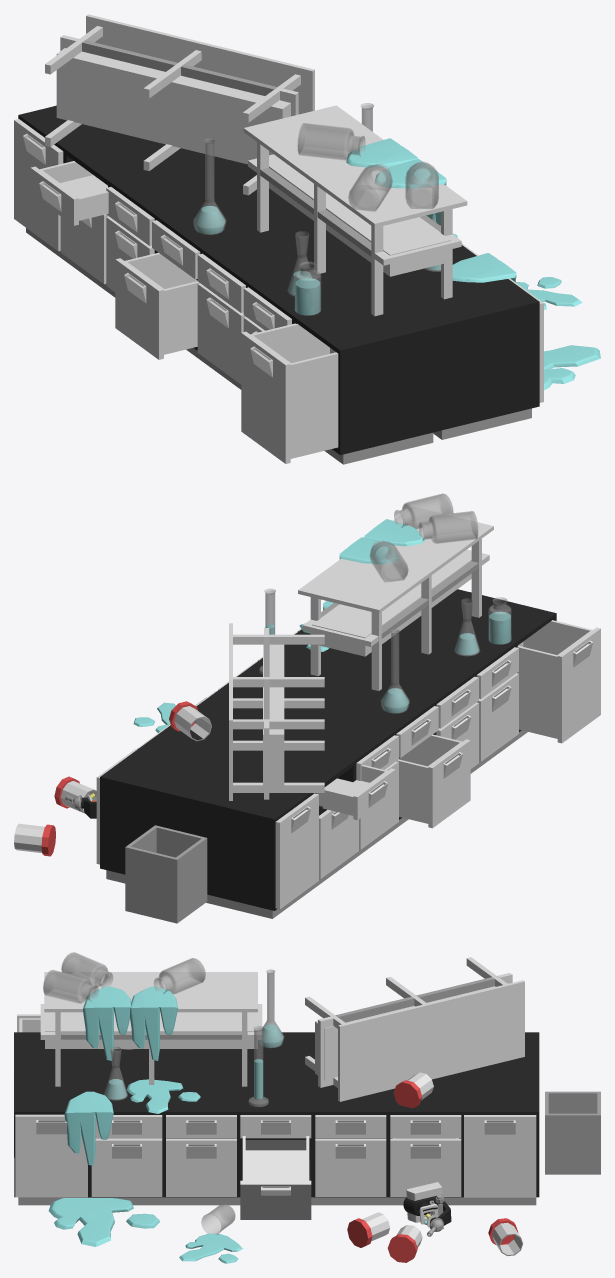
Rendered from Destroyed_science_table_001.fbx.
3 renders of one model, top to bottom at view 1: azimuth 30°, elevation 25°; view 2: azimuth 150°, elevation 25°; view 3: azimuth 270°, elevation 25°, orthographic. The views are drawn at different scales.
Parts seen in each view (by area): view 1: polySurface1008, polySurface1037, polySurface1097, polySurface1003, polySurface1077, polySurface1023, polySurface1082, polySurface1030, polySurface1025, polySurface1028, polySurface1022, polySurface2580 (+24 smaller); view 2: polySurface1008, polySurface1097, polySurface1037, polySurface1003, polySurface1077, polySurface1005, polySurface1023, polySurface1082, polySurface1030, polySurface1025, polySurface1006, polySurface1022 (+24 smaller); view 3: polySurface1097, polySurface1037, polySurface1008, polySurface1077, polySurface1087, polySurface1088, polySurface1042, polySurface1005, polySurface1082, polySurface1086, polySurface1090, polySurface1050 (+30 smaller).
Boxes of the visible parts, left/top/right/bottom form: polySurface1008: left=18, top=105, right=440, bottom=455; polySurface1037: left=45, top=14, right=314, bottom=195; polySurface1097: left=205, top=154, right=539, bottom=430; polySurface1003: left=241, top=323, right=338, bottom=463; polySurface1077: left=243, top=105, right=467, bottom=227; polySurface1023: left=115, top=252, right=199, bottom=359; polySurface1082: left=248, top=154, right=461, bottom=276; polySurface1030: left=14, top=119, right=63, bottom=251; polySurface1025: left=30, top=161, right=108, bottom=225; polySurface1028: left=197, top=283, right=245, bottom=384; polySurface1022: left=60, top=214, right=108, bottom=284; polySurface2580: left=297, top=123, right=365, bottom=160; polySurface1008: left=187, top=592, right=556, bottom=910; polySurface1097: left=100, top=589, right=468, bottom=874; polySurface1037: left=229, top=623, right=324, bottom=800; polySurface1003: left=517, top=620, right=600, bottom=743; polySurface1077: left=298, top=506, right=493, bottom=613; polySurface1005: left=125, top=825, right=207, bottom=923; polySurface1023: left=397, top=734, right=470, bottom=828; polySurface1082: left=302, top=549, right=489, bottom=656; polySurface1030: left=275, top=793, right=318, bottom=909; polySurface1025: left=317, top=765, right=395, bottom=820; polySurface1006: left=477, top=673, right=518, bottom=761; polySurface1022: left=319, top=809, right=358, bottom=878; polySurface1097: left=14, top=1072, right=539, bottom=1197; polySurface1037: left=305, top=957, right=524, bottom=1101; polySurface1008: left=14, top=1032, right=539, bottom=1157; polySurface1077: left=44, top=972, right=257, bottom=1012; polySurface1087: left=464, top=1115, right=536, bottom=1197; polySurface1088: left=240, top=1136, right=311, bottom=1219; polySurface1042: left=15, top=1114, right=87, bottom=1197; polySurface1005: left=545, top=1091, right=600, bottom=1174; polySurface1082: left=40, top=1004, right=262, bottom=1048; polySurface1086: left=315, top=1138, right=386, bottom=1196; polySurface1090: left=166, top=1138, right=236, bottom=1196; polySurface1050: left=91, top=1138, right=162, bottom=1196.
Bounding box in the file's own units: 2.75 × 1.61 × 4.2.
